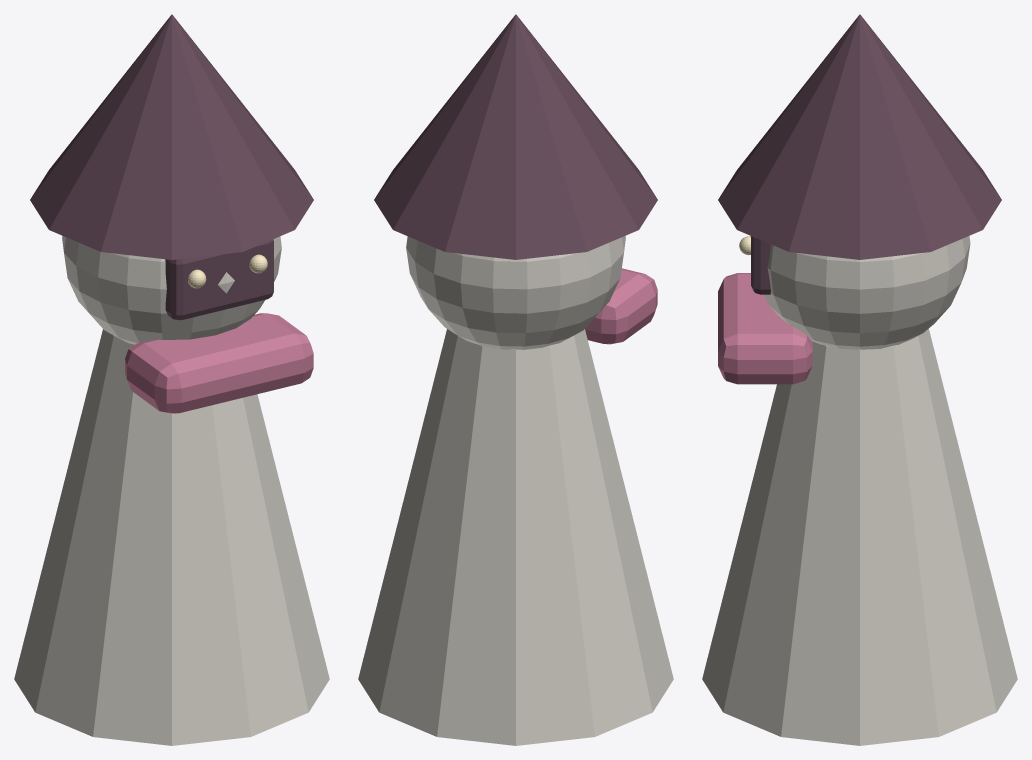
The model's file is traveler.glb.
3 views of the same model, side by side, from view 1: azimuth 30°, elevation 25°; view 2: azimuth 150°, elevation 25°; view 3: azimuth 270°, elevation 25° (orthographic).
Parts seen in each view (by area): view 1: Traveler robe, Traveler hat, Traveler scarf, Traveler head, Traveler face; view 2: Traveler robe, Traveler hat, Traveler head, Traveler scarf; view 3: Traveler robe, Traveler hat, Traveler head, Traveler scarf, Traveler face.
Part boxes in pixels (x1,y1,x2,y2): Traveler robe: [14, 329, 329, 745]; Traveler hat: [30, 14, 313, 259]; Traveler scarf: [125, 313, 313, 413]; Traveler head: [62, 236, 281, 344]; Traveler face: [165, 239, 273, 320]; Traveler robe: [358, 329, 673, 745]; Traveler hat: [374, 14, 657, 259]; Traveler head: [406, 236, 625, 349]; Traveler scarf: [585, 268, 657, 344]; Traveler robe: [702, 328, 1017, 745]; Traveler hat: [718, 14, 1001, 259]; Traveler head: [750, 236, 970, 349]; Traveler scarf: [718, 273, 812, 384]; Traveler face: [751, 236, 770, 294].
Size of the model in its own units: 0.4 by 0.95 by 0.4.
